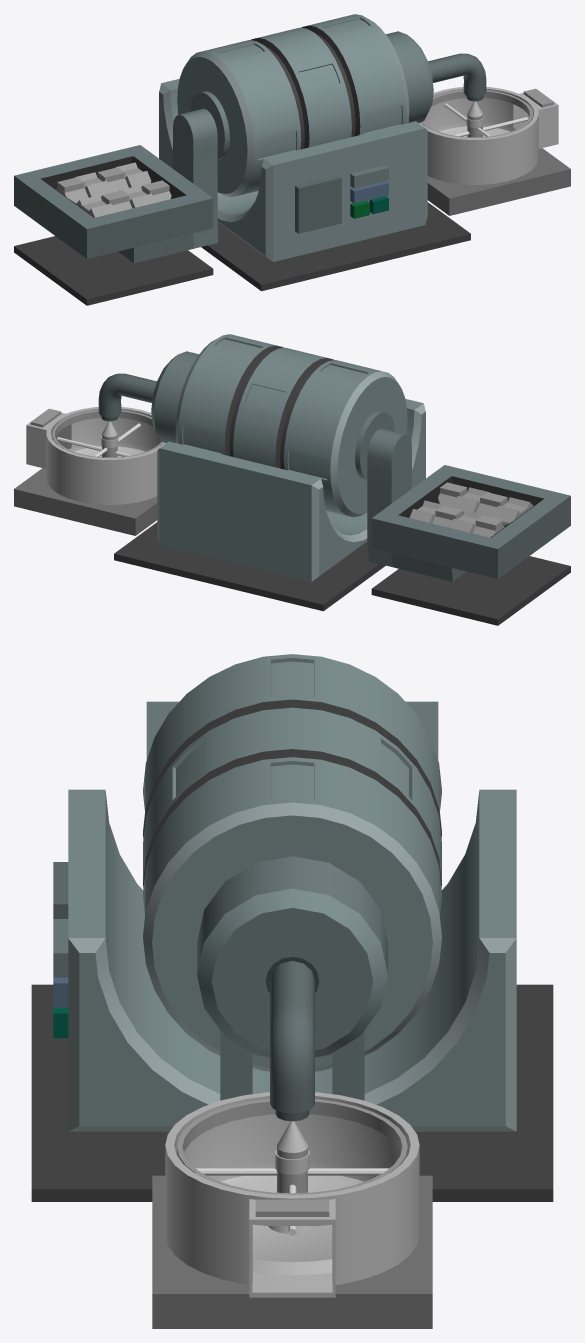
File: mech_1_unlockAnim_2.fbx
3 renders of one model, top to bottom at view 1: azimuth 30°, elevation 25°; view 2: azimuth 150°, elevation 25°; view 3: azimuth 270°, elevation 25°, orthographic. The views are drawn at different scales.
Visible parts, largest first — view 1: mech_1_lv1.003; view 2: mech_1_lv1.003; view 3: mech_1_lv1.003.
Part boxes in pixels (x1=…): mech_1_lv1.003: x1=14, y1=14, x2=570, y2=305; mech_1_lv1.003: x1=14, y1=334, x2=570, y2=625; mech_1_lv1.003: x1=31, y1=654, x2=553, y2=1328.
Bounding box in the file's own units: 512 × 179 × 233.
